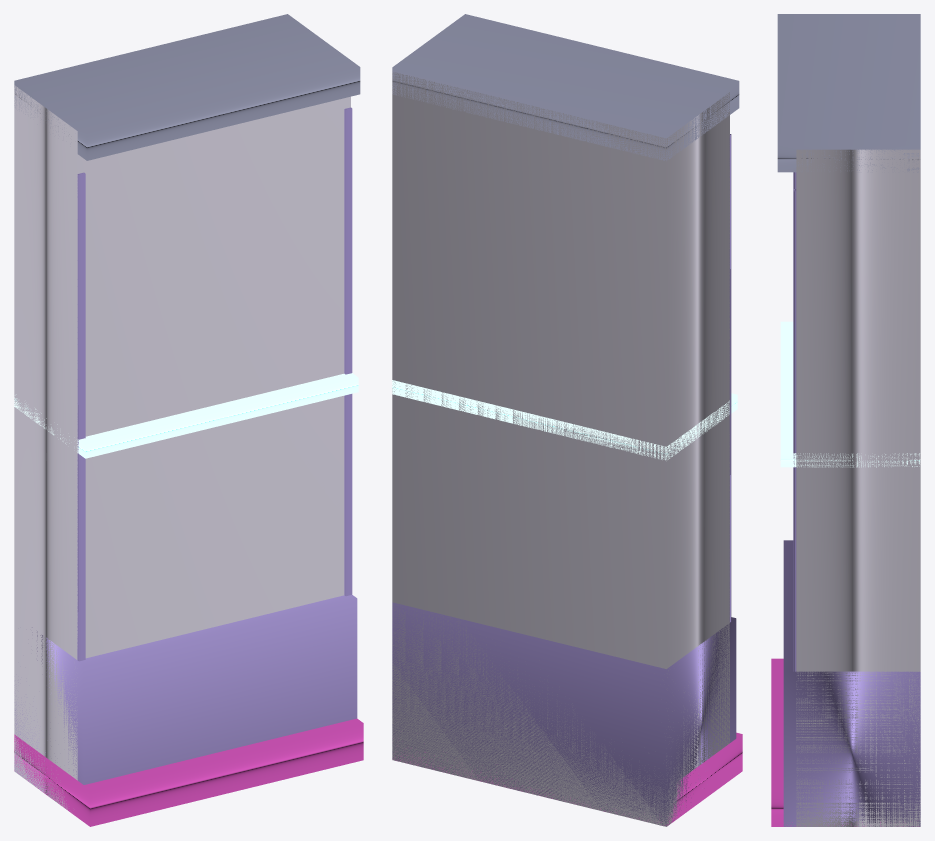
File: wall_lab.glb
3 renders of one model, left to right at view 1: azimuth 30°, elevation 25°; view 2: azimuth 150°, elevation 25°; view 3: azimuth 270°, elevation 25°, orthographic.
Parts seen in each view (by area): view 1: Wall; view 2: Wall; view 3: Wall.
Boxes of the visible parts, x1=… form: Wall: x1=14, y1=14, x2=363, y2=826; Wall: x1=392, y1=14, x2=742, y2=826; Wall: x1=771, y1=14, x2=920, y2=826.
Bounding box in the file's own units: 1 × 2.41 × 0.48.
